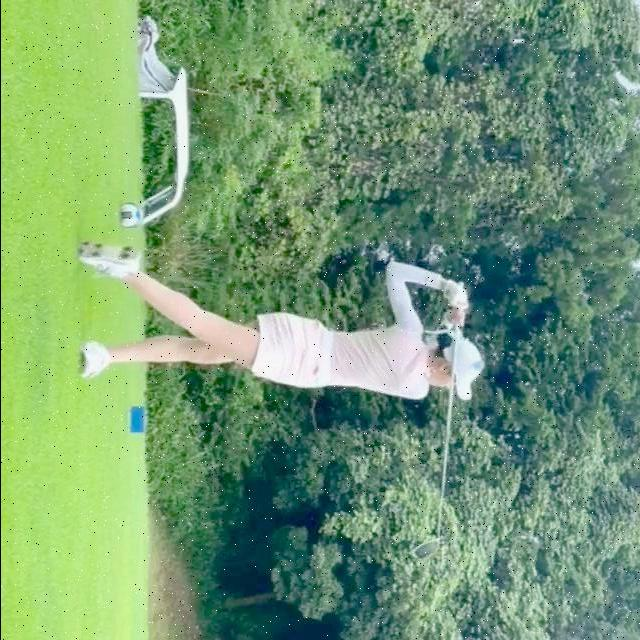golf club-handle: (408, 281, 464, 560)
golf club-head: (408, 539, 440, 561)
